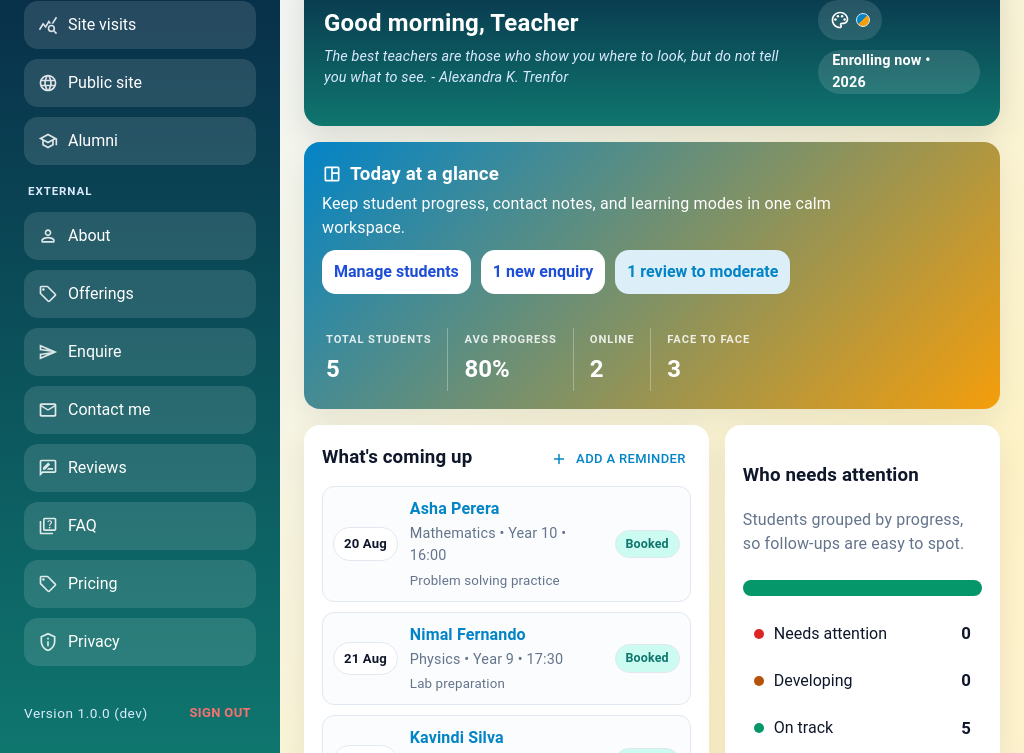
Test: public pages › reaches the contact page from the sidebar
(page scrolled)
Click the button "Contact me" at [140, 410], box [24,386,256,434]
(page scrolled)
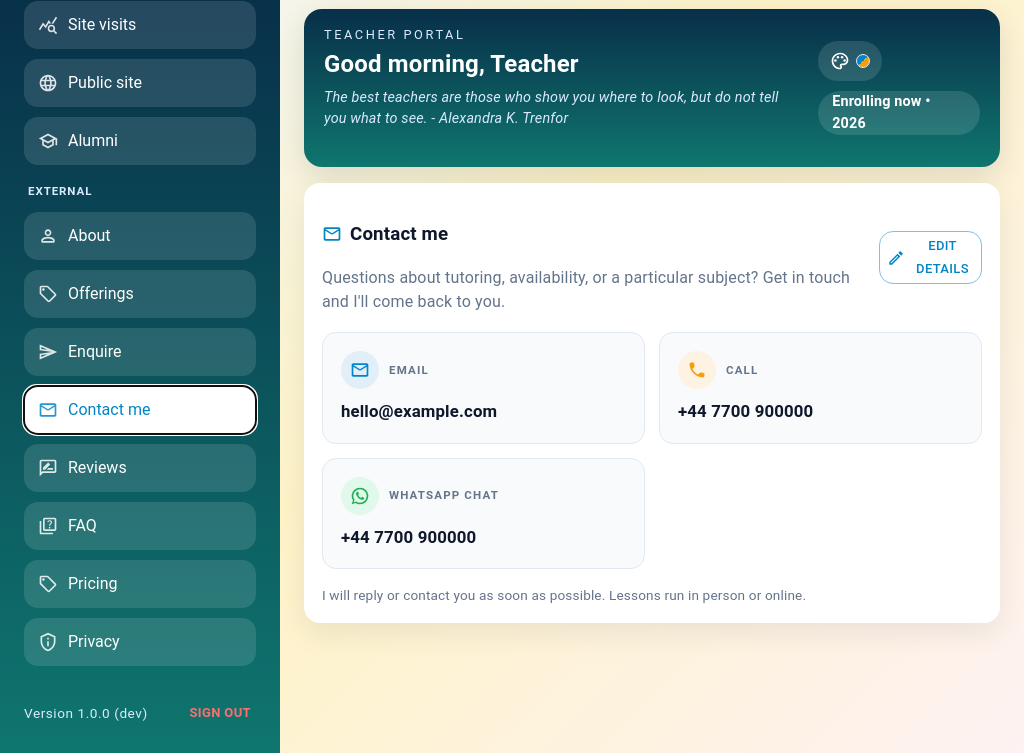
Now the heading "Contact me" is shown, box [322,222,448,244]
